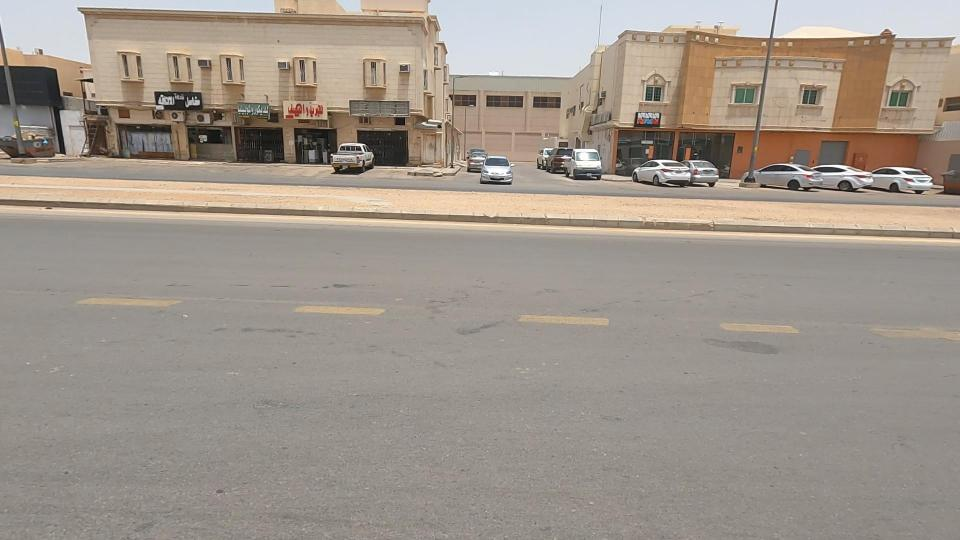BAD_BILLBOARD: (310, 81, 445, 137)
CLUTTER_SIDEWALK: (0, 137, 288, 250), (564, 178, 917, 256), (183, 164, 491, 237), (391, 177, 685, 233)
